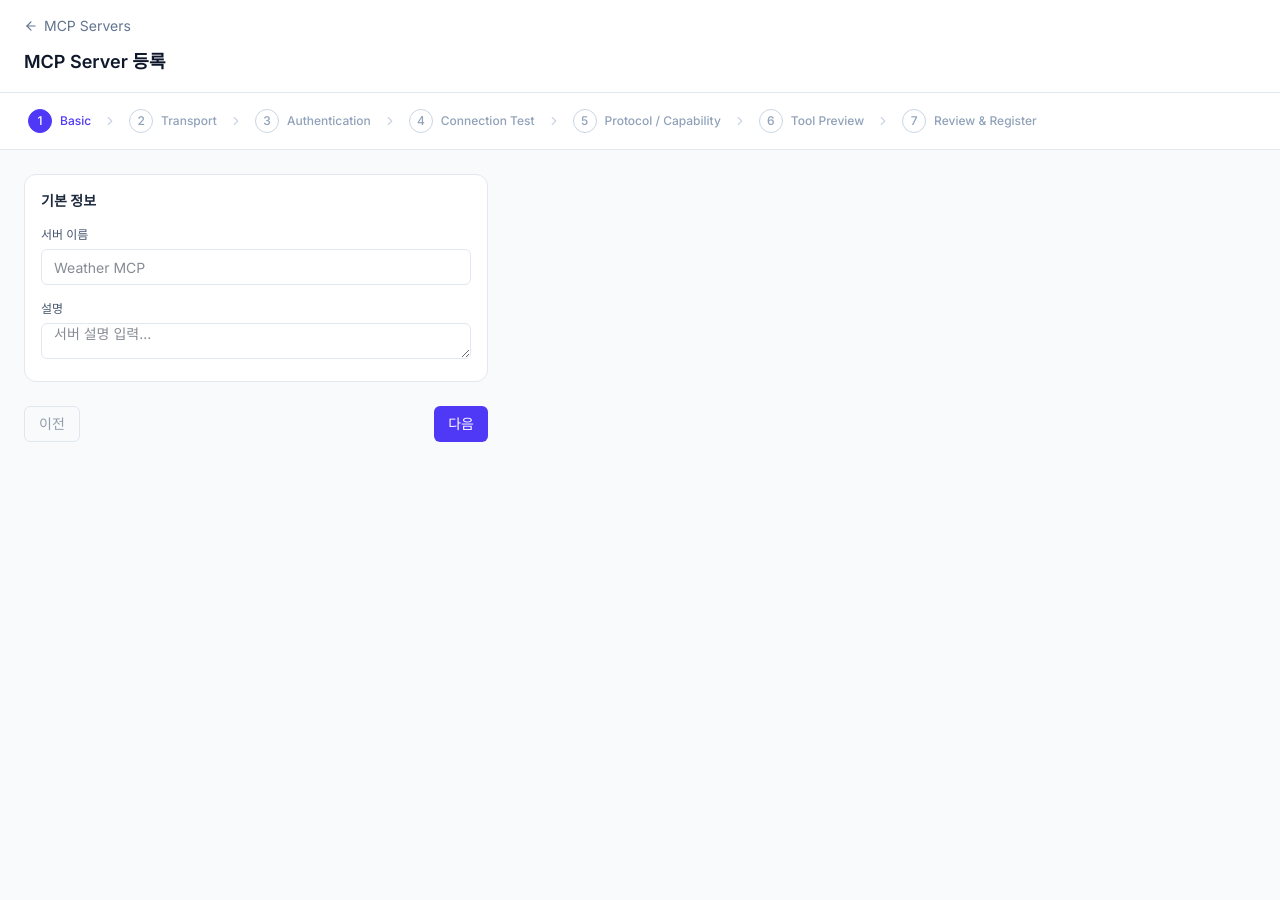
MCPServerNew — API wizard › shows NONE auth only and disabled secret auth types
The width and height of the screenshot is (1280, 900).
Click the button "다음".
click(461, 424)  # box [434,406,488,442]
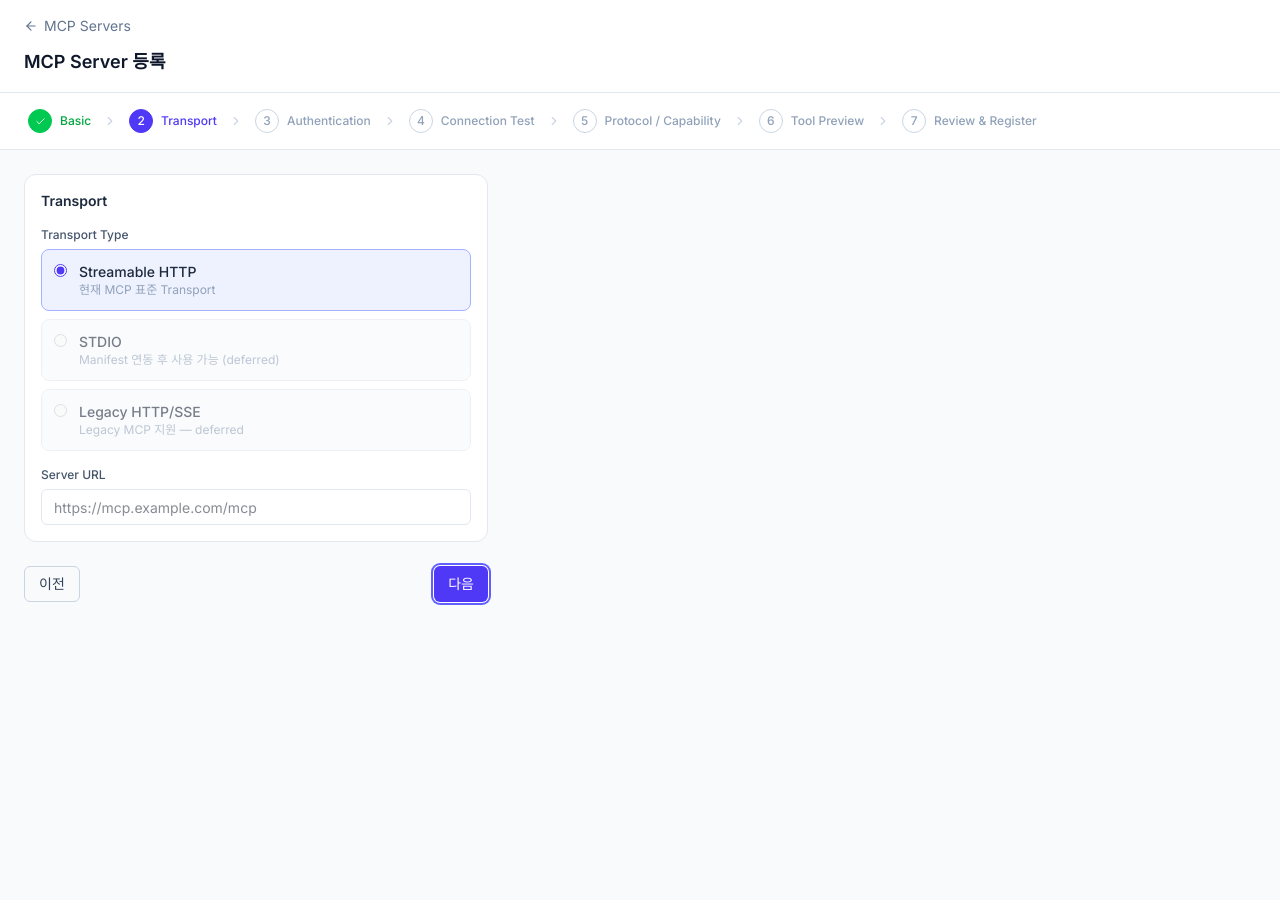
Click the button "다음".
click(461, 584)  # box [434,566,488,602]
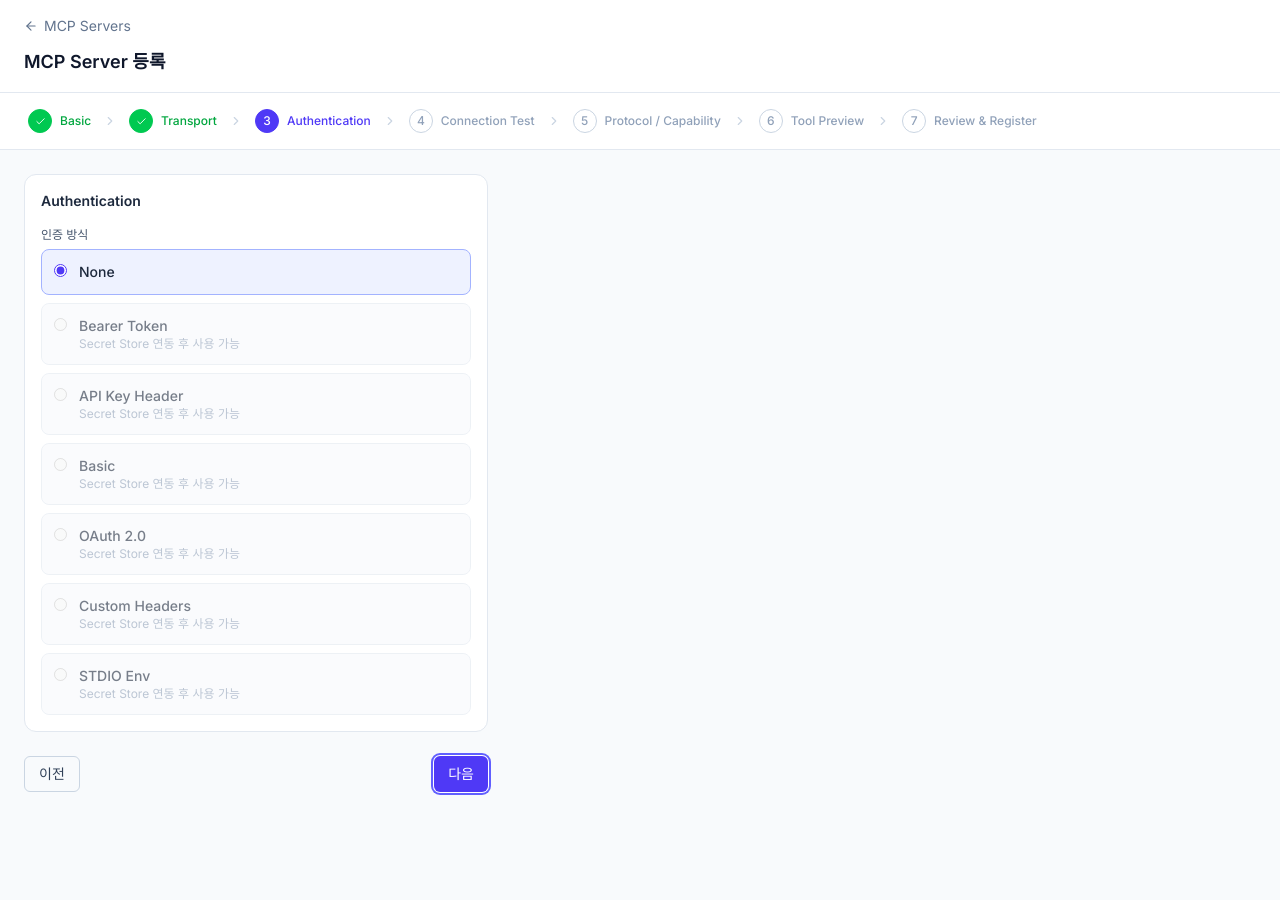
Check: the text "None" is shown, box [79,262,115,282]
Check: the text "Secret Store 연동 후 사용 가능" below "Bearer Token" is shown, box [79,336,240,351]
